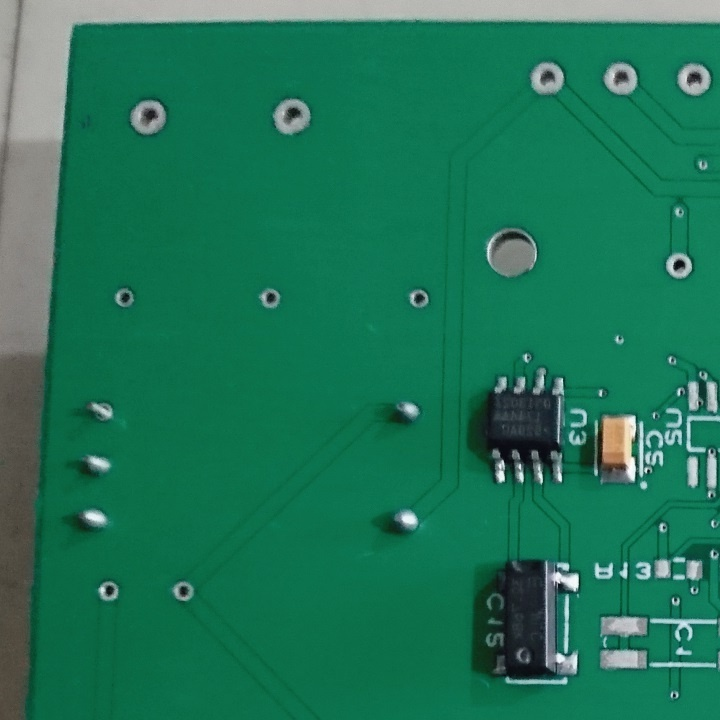F: (126, 96, 169, 139), (525, 56, 568, 99), (271, 95, 313, 139), (599, 56, 641, 98), (675, 58, 714, 98), (661, 251, 698, 280), (82, 398, 119, 424), (170, 575, 199, 608), (96, 576, 124, 605), (257, 283, 284, 313), (113, 285, 138, 310), (406, 285, 430, 311)
